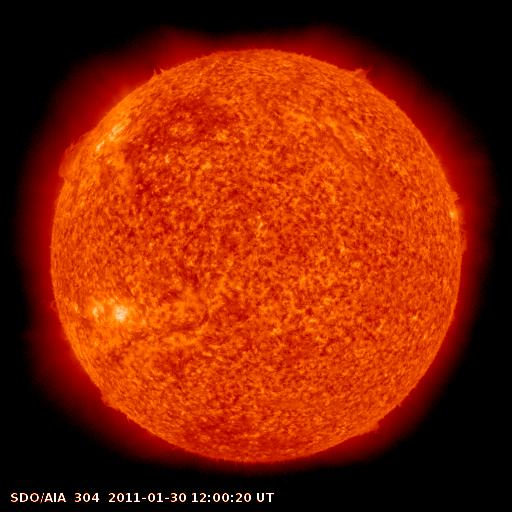prominence: (48, 117, 106, 187), (439, 174, 478, 267), (340, 53, 392, 99)
